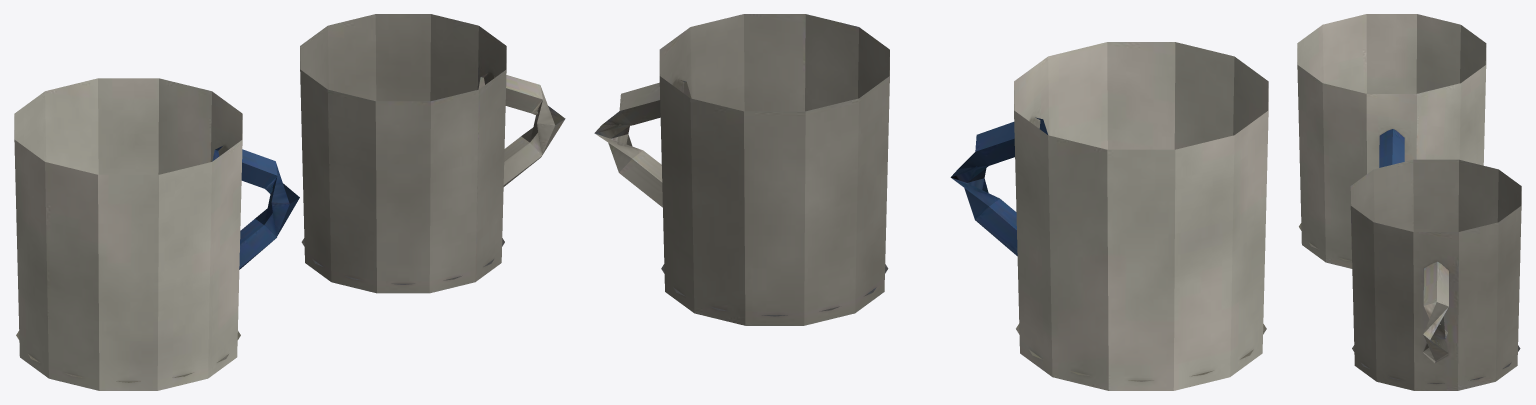
Rendered from mugs_idle.glb.
3 renders of one model, left to right at view 1: azimuth 30°, elevation 25°; view 2: azimuth 150°, elevation 25°; view 3: azimuth 270°, elevation 25°, orthographic. The views are drawn at different scales.
Parts seen in each view (by area): view 1: mugs; view 2: mugs; view 3: mugs.
Part boxes in pixels (x1,y1,x2,y2): mugs: (14,14,565,390); mugs: (594,14,1268,390); mugs: (1297,14,1521,390).
Size of the model in its own units: 0.2409 by 0.09 by 0.1011.
1 material, 1 textured.
